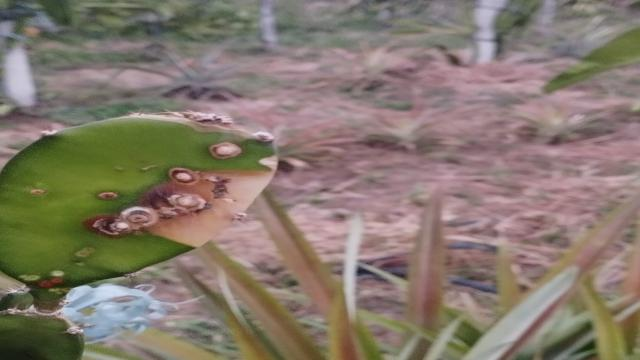stemcanker: (20, 127, 128, 205), (201, 122, 274, 177), (160, 164, 199, 183)
